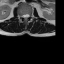CCS_normal: (24, 12, 27, 22)
LFS_normal: (29, 11, 31, 18)
LLS_normal: (27, 11, 29, 20)
RFS_normal: (20, 12, 22, 19)
RLS_normal: (22, 12, 24, 20)
